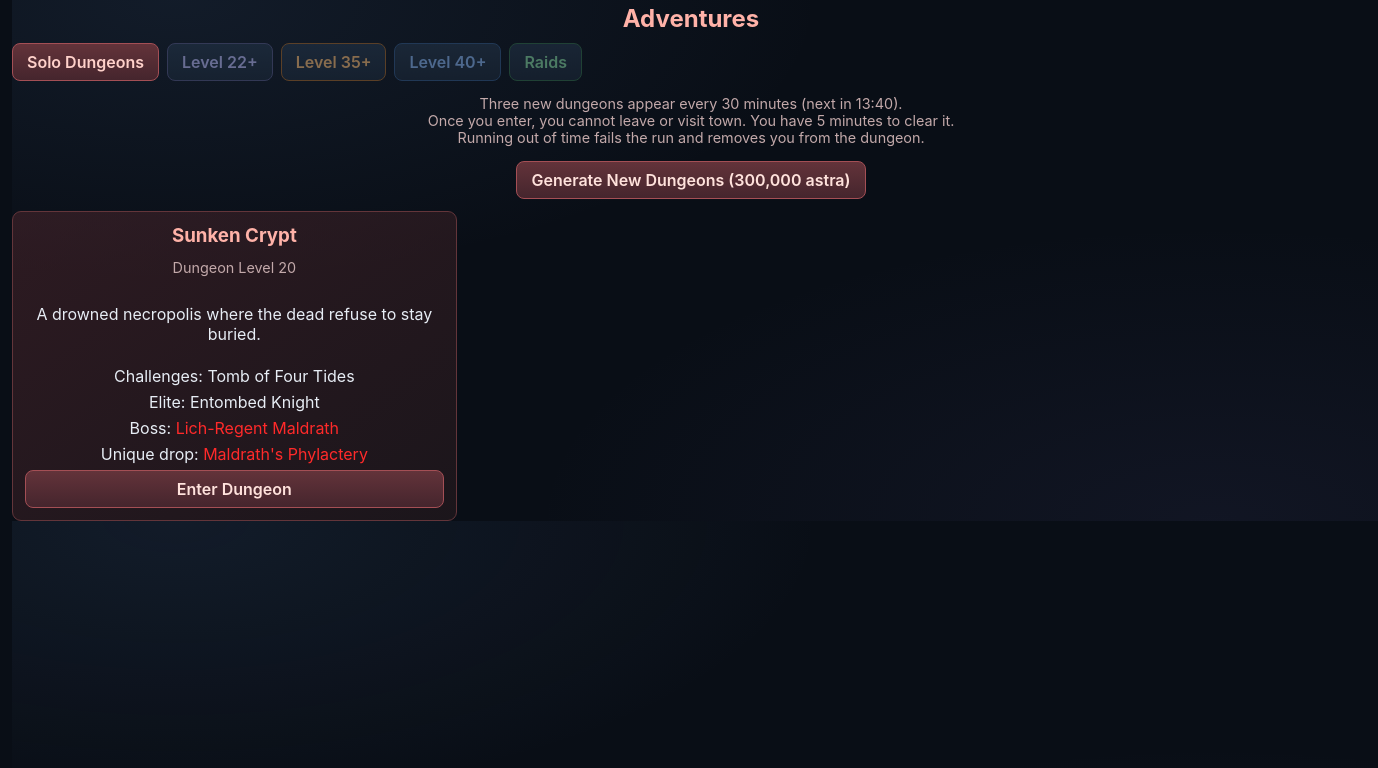
failed entry displays the reason without navigating
The image size is (1378, 768).
What coordinates should you click on to do the following:
click the button "Enter Dungeon"
I would click on:
 (234, 489)
Its box is x1=25 y1=470 x2=444 y2=508.
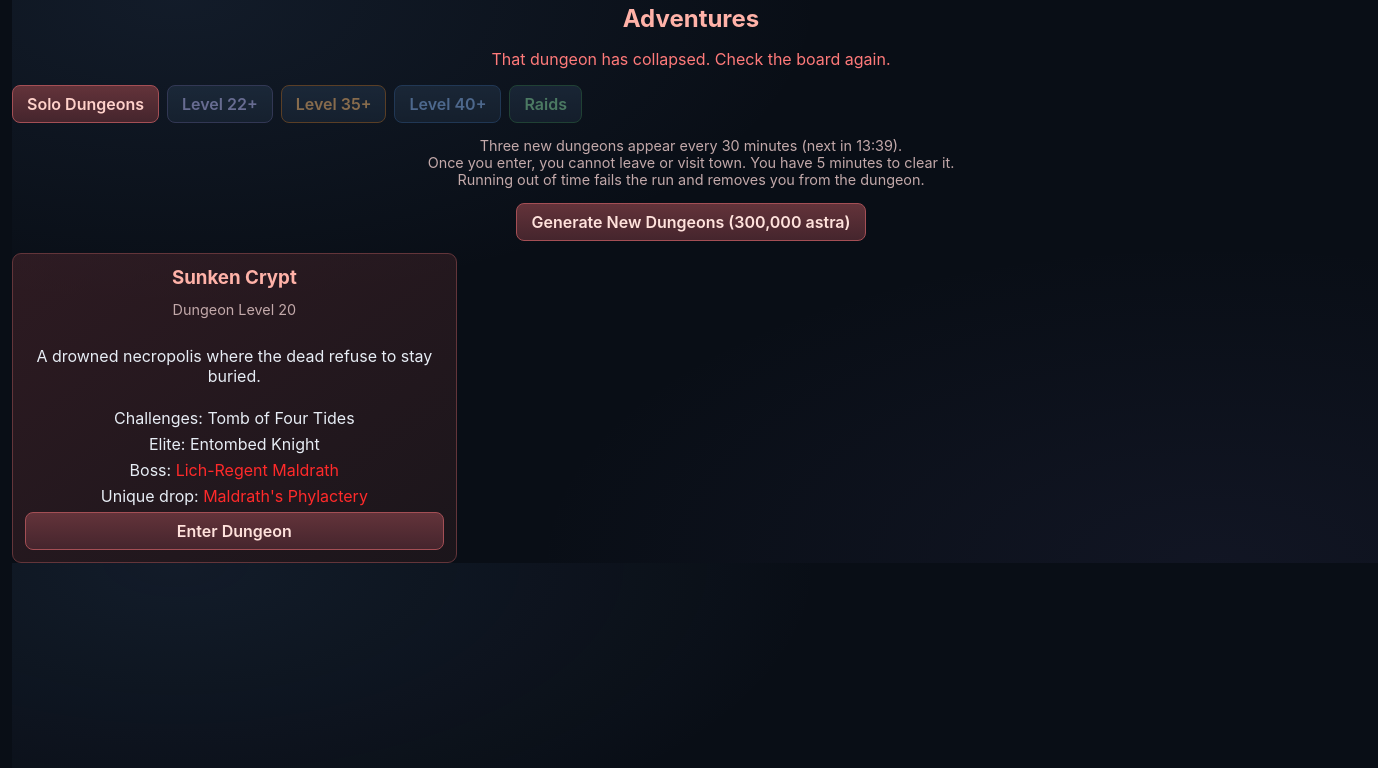
expect the message shows "That dungeon has collapsed.": met, box x1=492 y1=49 x2=890 y2=69
